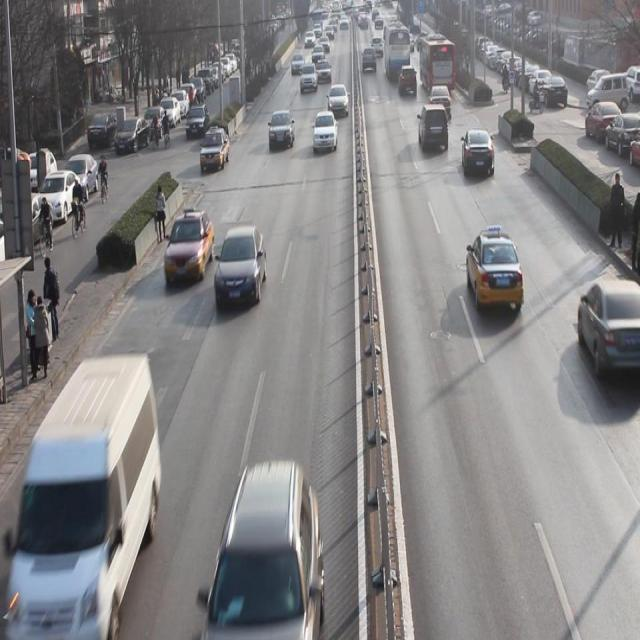car: (212, 470, 318, 640), (464, 228, 525, 316), (576, 277, 627, 382), (214, 230, 267, 309), (164, 213, 214, 282), (460, 129, 495, 183), (417, 102, 450, 154), (200, 126, 229, 173), (268, 109, 296, 153), (312, 111, 339, 154), (428, 81, 453, 118), (327, 83, 350, 118), (398, 64, 418, 97), (300, 64, 317, 96), (361, 46, 377, 74), (316, 58, 331, 84)
truck: (26, 364, 154, 623)
van: (418, 36, 453, 92)
